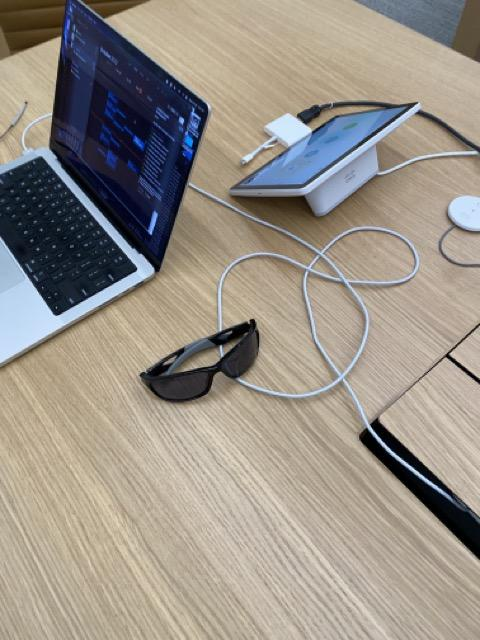Sunglasses: (138, 316, 264, 406)
